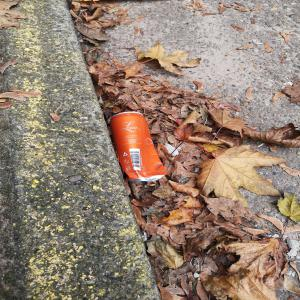Can: (108, 111, 170, 187)
